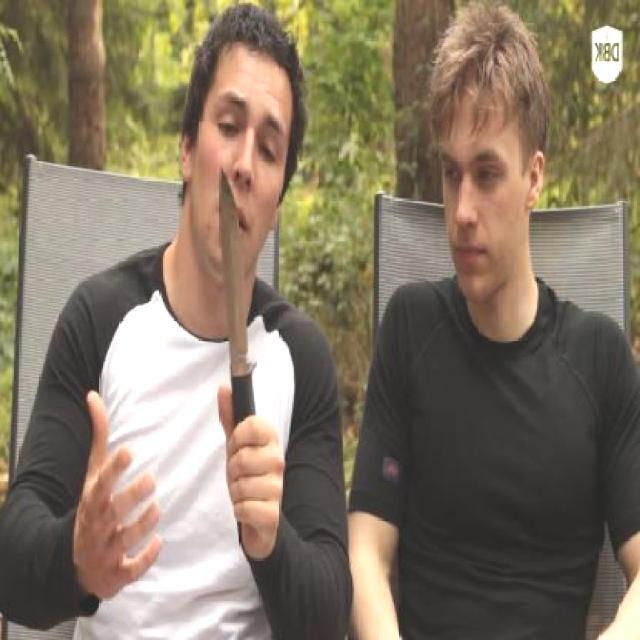knife: (212, 146, 285, 514)
